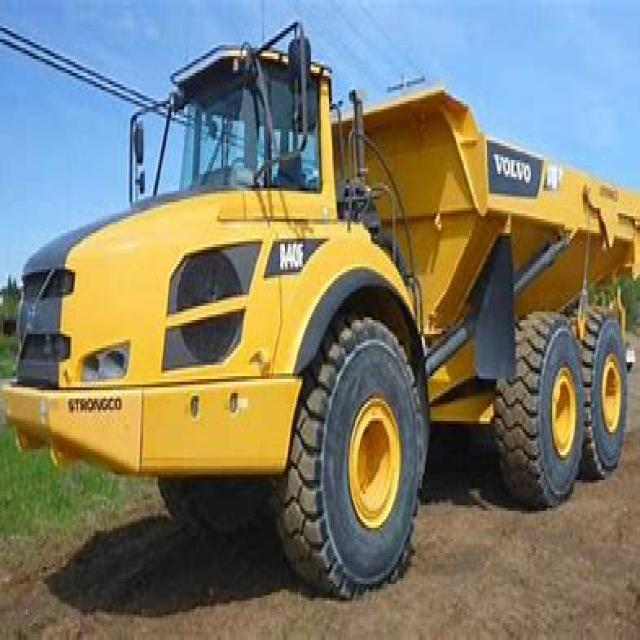dump_truck: (10, 22, 638, 598)
